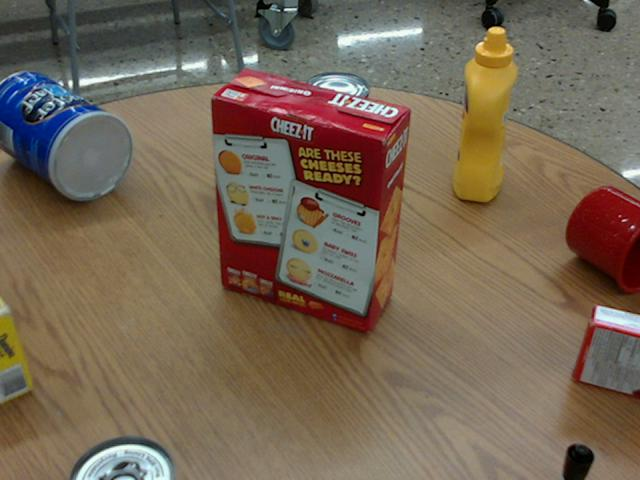cracker_box: (213, 69, 411, 329)
gelatin_box: (575, 306, 639, 398)
large_marker: (565, 446, 599, 479)
master_chef_can: (0, 71, 136, 200)
mug: (566, 185, 639, 292)
mustard_bottle: (453, 26, 518, 200)
potted_meat_can: (221, 89, 308, 195)
sugar_box: (0, 288, 36, 402)
tomato_soup_can: (73, 436, 179, 479)
tuna_fish_can: (306, 69, 371, 123)
